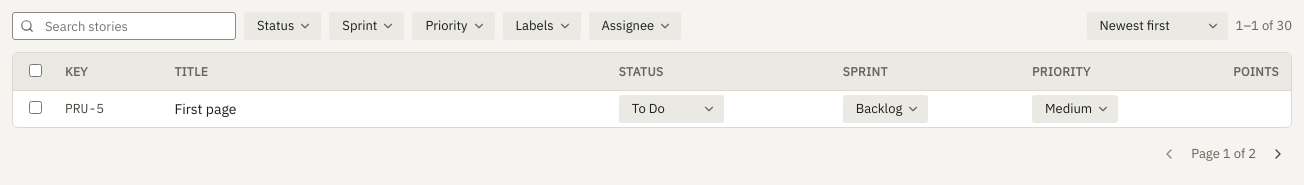
BacklogView › pages through the results by changing the URL
The image size is (1304, 185).
Expected: the text "Page 1 of 2" is shown, [1191,144,1256,164]
Expected: the button named "Previous page" is disabled, [1155,140,1183,168]
Click the button named "Next page". click: [1278, 154]
box: [1264,140,1292,168]
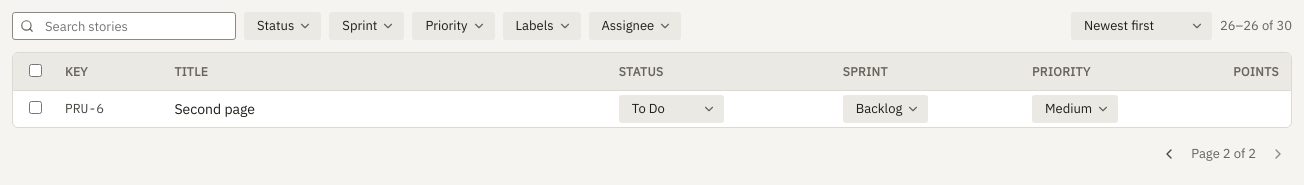
Result: the button "Second page" is shown at [174,98,255,120]
